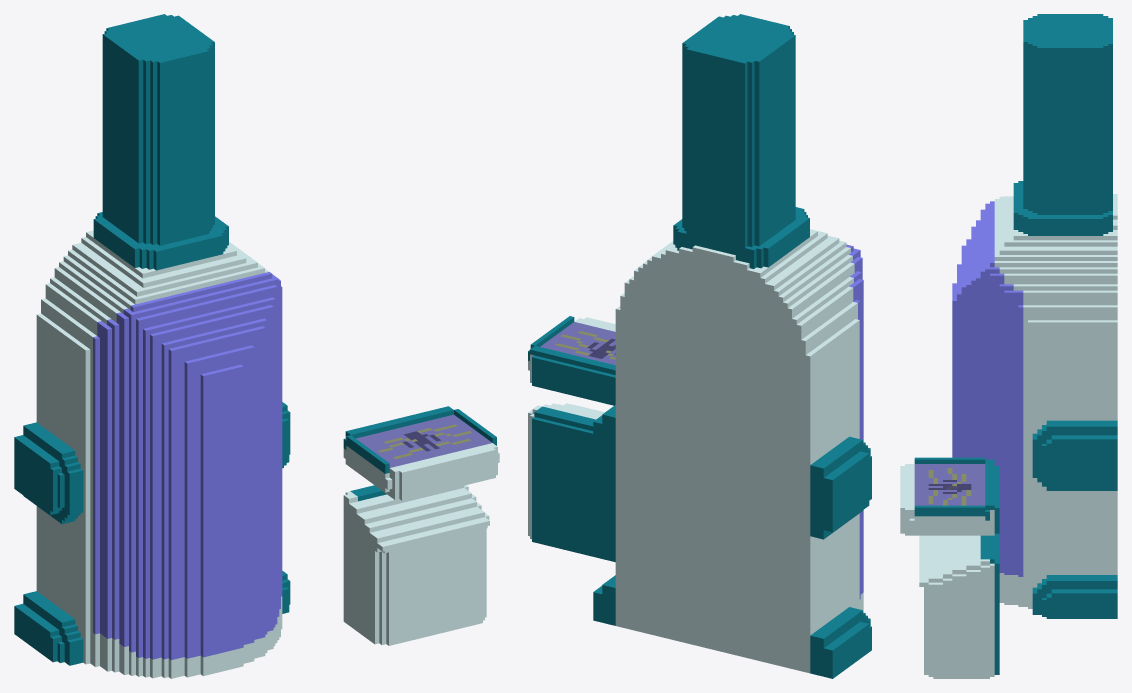
Rendered from Sleep Device1-3.fbx.
The picture shows the model from 3 angles, left to right: view 1: azimuth 30°, elevation 25°; view 2: azimuth 150°, elevation 25°; view 3: azimuth 270°, elevation 25°; orthographic projection. The views are drawn at different scales.
Parts seen in each view (by area): view 1: Sleep Device1-3.001, Sleep Device1-3.000, Sleep Device1-3.002, Sleep Device1-3.003, Sleep Device1-3.004, Sleep Device1-3.006; view 2: Sleep Device1-3.000, Sleep Device1-3.002, Sleep Device1-3.003, Sleep Device1-3.004, Sleep Device1-3.006, Sleep Device1-3.001; view 3: Sleep Device1-3.000, Sleep Device1-3.002, Sleep Device1-3.001, Sleep Device1-3.003, Sleep Device1-3.004, Sleep Device1-3.006.
Part boxes in pixels (x1,y1,x2,y2): Sleep Device1-3.001: (93,272,282,660); Sleep Device1-3.000: (14,212,290,678); Sleep Device1-3.002: (102,14,214,245); Sleep Device1-3.003: (343,485,489,645); Sleep Device1-3.004: (343,406,499,500); Sleep Device1-3.006: (356,414,491,467); Sleep Device1-3.000: (593,207,871,678); Sleep Device1-3.002: (682,14,795,247); Sleep Device1-3.003: (528,403,615,562); Sleep Device1-3.004: (528,316,615,405); Sleep Device1-3.006: (540,322,615,365); Sleep Device1-3.001: (846,244,863,599); Sleep Device1-3.000: (994,181,1117,618); Sleep Device1-3.002: (1023,14,1112,214); Sleep Device1-3.001: (952,201,1023,576); Sleep Device1-3.003: (919,533,999,678); Sleep Device1-3.004: (900,457,999,535); Sleep Device1-3.006: (914,464,985,505).
Bounding box in the file's own units: 8.3 × 12.5 × 4.6.
